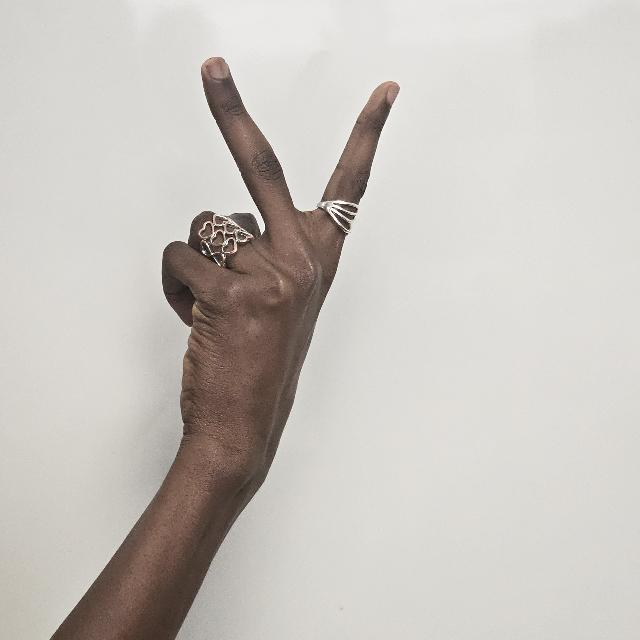Triangulo: (156, 48, 400, 494)
